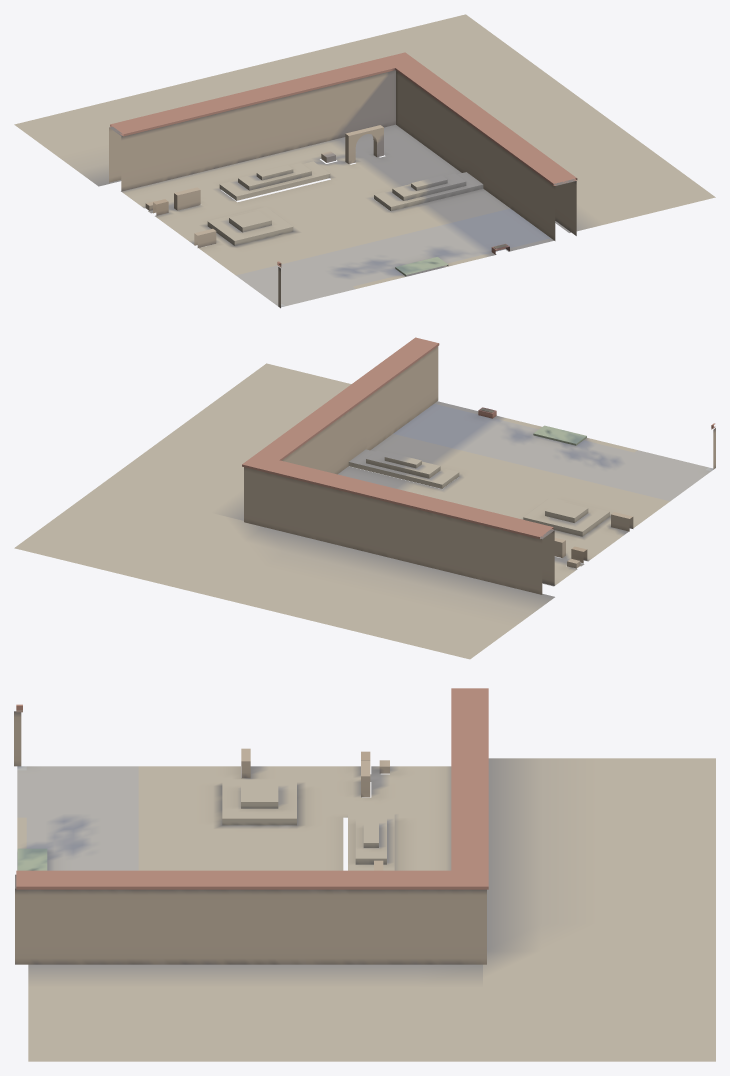
3 views of the same model, one above another, from view 1: azimuth 30°, elevation 25°; view 2: azimuth 150°, elevation 25°; view 3: azimuth 270°, elevation 25° (orthographic). The views are drawn at different scales.
Visible parts, largest first — view 1: t; view 2: t; view 3: t.
Boxes of the visible parts, left/top/right/bottom form: t: left=14, top=14, right=715, bottom=308; t: left=14, top=337, right=715, bottom=659; t: left=14, top=688, right=715, bottom=1061.
Size of the model in its own units: 77 by 9.35 by 75.37.
